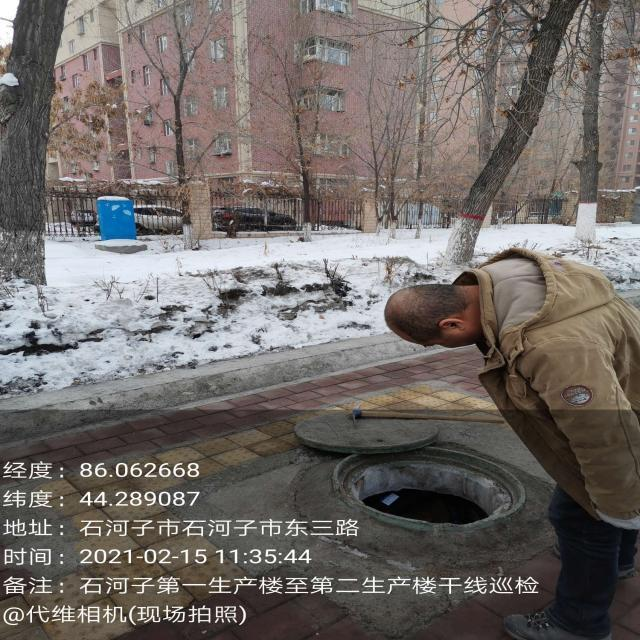manhole: (332, 448, 525, 531)
